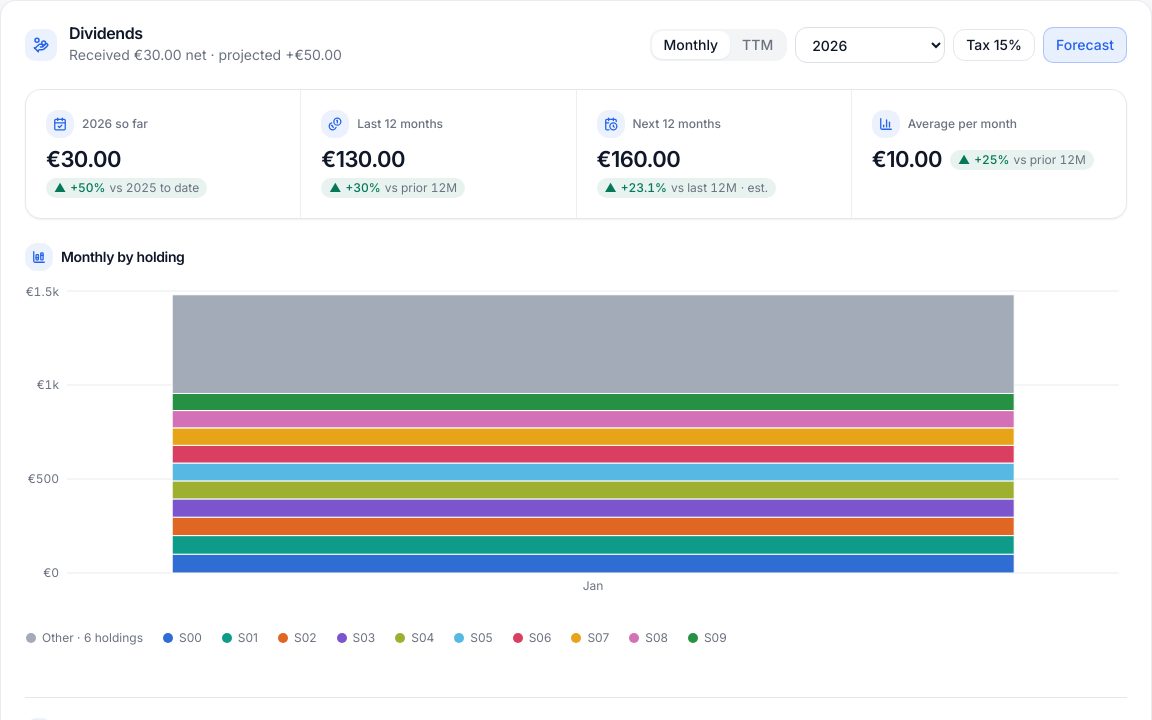
Test case: The dividend legend › says how many holdings the fold holds, and opens to name them
This screenshot has width=1152, height=720.
Expected: the text "Received €30.00 net · projected +€50.00" is shown, [69,46,342,63]
Click the button "Other · 6 holdings" at x=84, y=638, box [17,626,152,648]
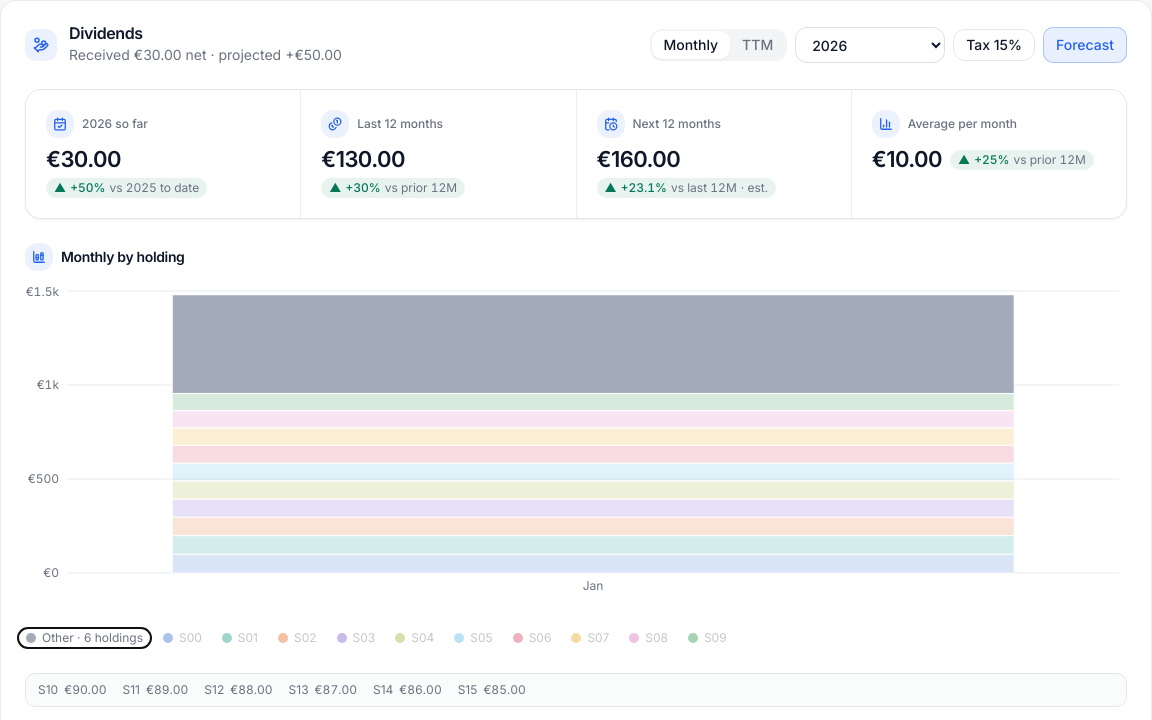
Expected: the text "S10" is shown, [38,682,58,698]
Expected: the text "S15" is shown, [458,682,477,698]
